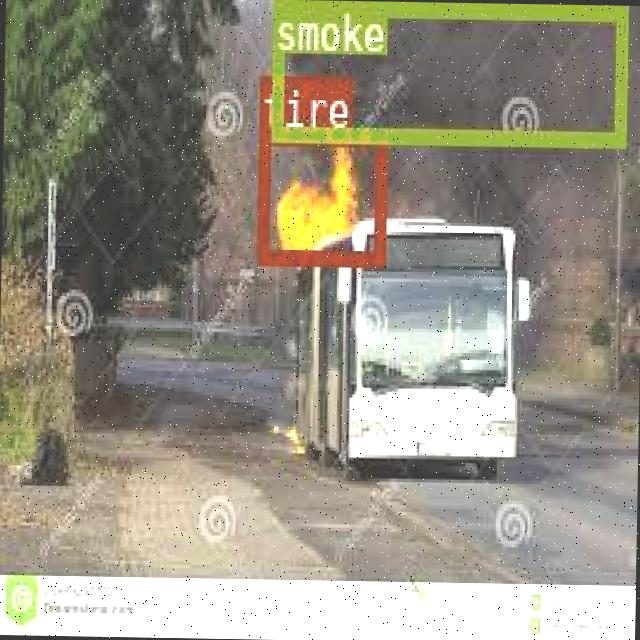fire: (256, 126, 383, 264)
smoke: (270, 0, 625, 142)
